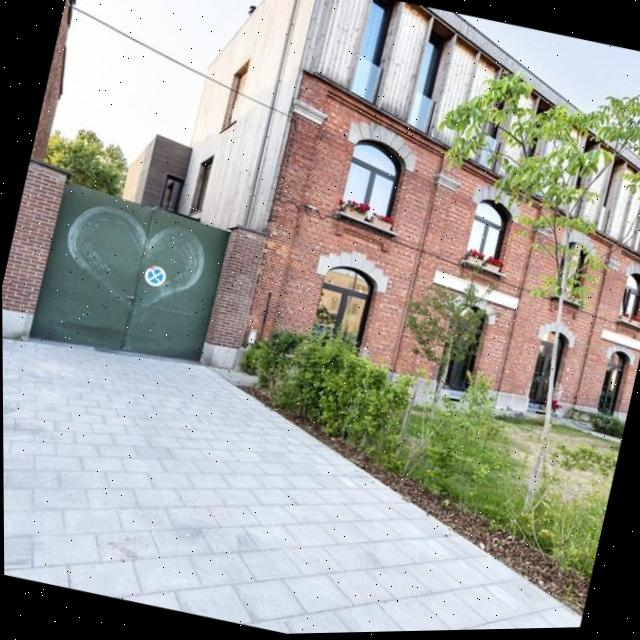building: (142, 0, 640, 451)
